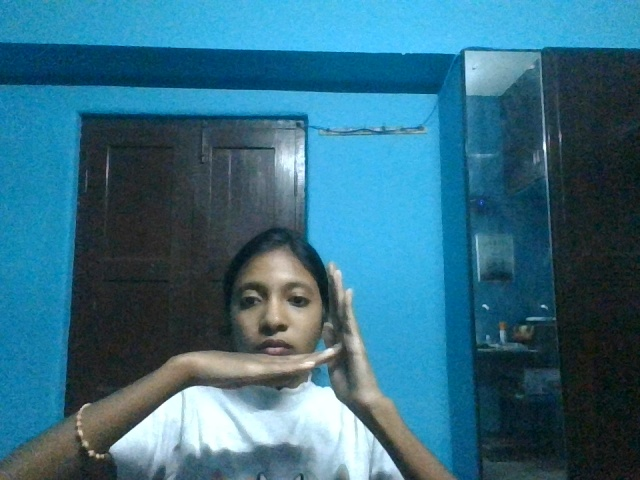Z: (185, 259, 399, 450)
